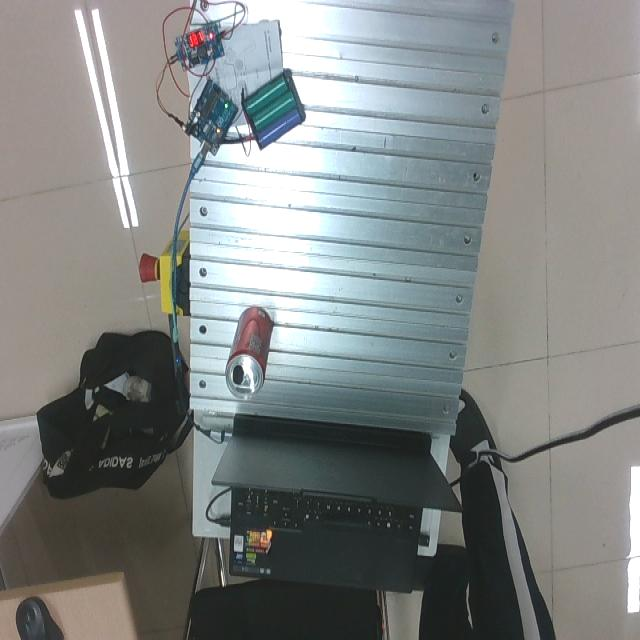coca: (224, 307, 273, 400)
